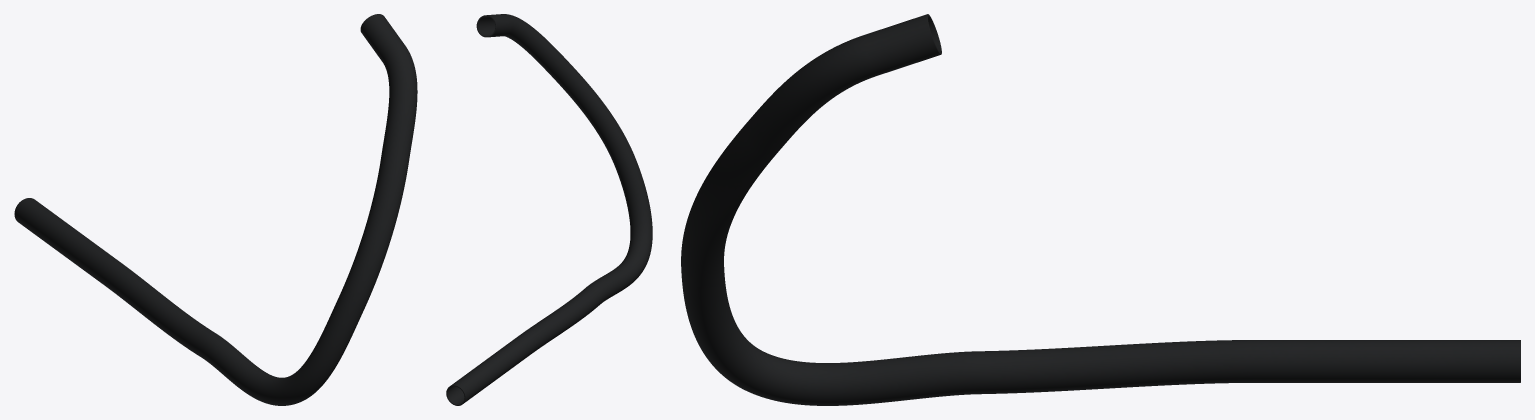
The model's file is exhaust-header-inspection.glb.
3 views of the same model, side by side, from view 1: azimuth 30°, elevation 25°; view 2: azimuth 150°, elevation 25°; view 3: azimuth 270°, elevation 25° (orthographic). The views are drawn at different scales.
Parts seen in each view (by area): view 1: Hollow front and lower exhaust tube - conditional RDC; view 2: Hollow front and lower exhaust tube - conditional RDC; view 3: Hollow front and lower exhaust tube - conditional RDC.
Boxes of the visible parts, x1,y1,x2,y2 form: Hollow front and lower exhaust tube - conditional RDC: (14, 14, 417, 405); Hollow front and lower exhaust tube - conditional RDC: (446, 14, 652, 405); Hollow front and lower exhaust tube - conditional RDC: (681, 14, 1520, 405).
Bounding box in the file's own units: 0.2086 × 0.3646 × 0.5594.
Materials: 1 (1 with a texture image).
